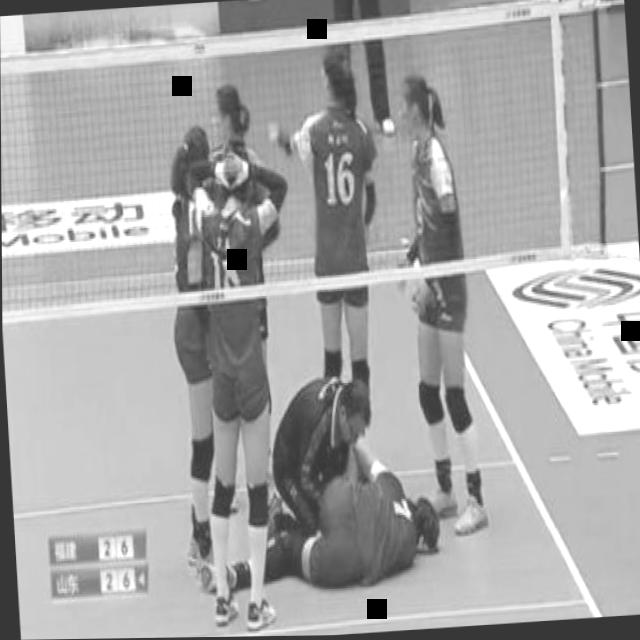Fall-Detected: (205, 440, 447, 604)
